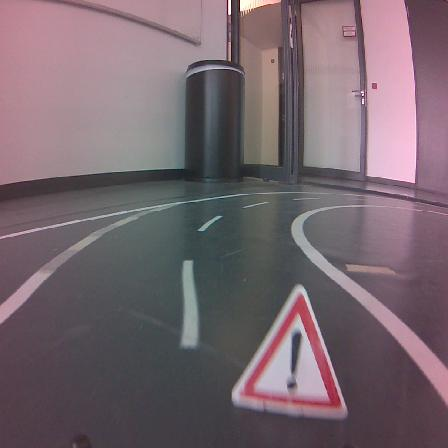ATTENTION: (232, 285, 346, 418)
